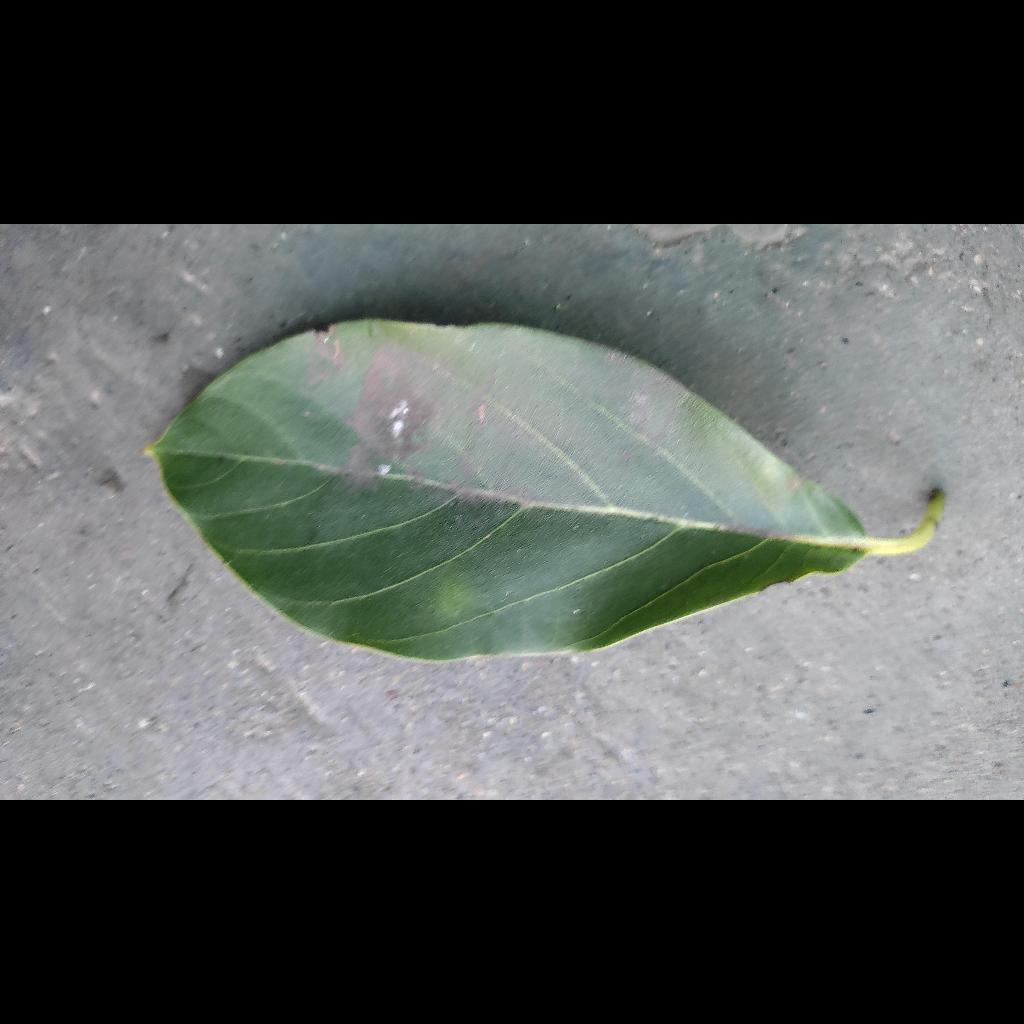persea_mite: (317, 344, 491, 522)
